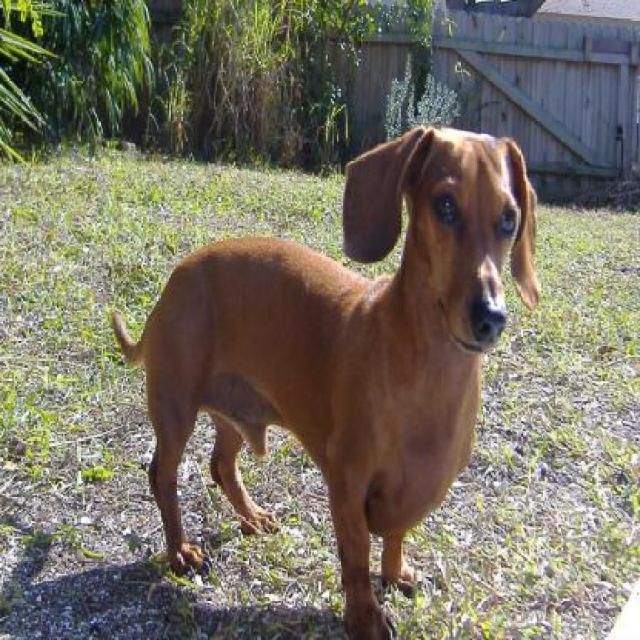Dog: (109, 120, 545, 638)
